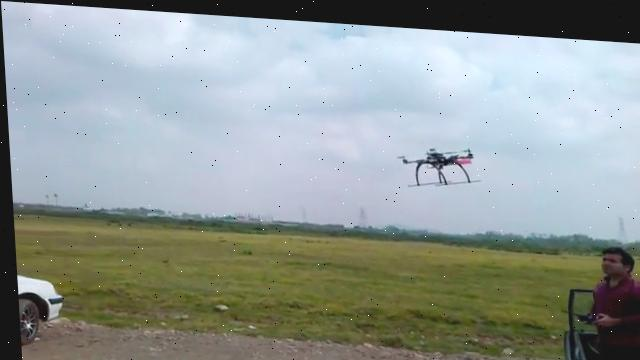drone: (391, 134, 482, 183)
